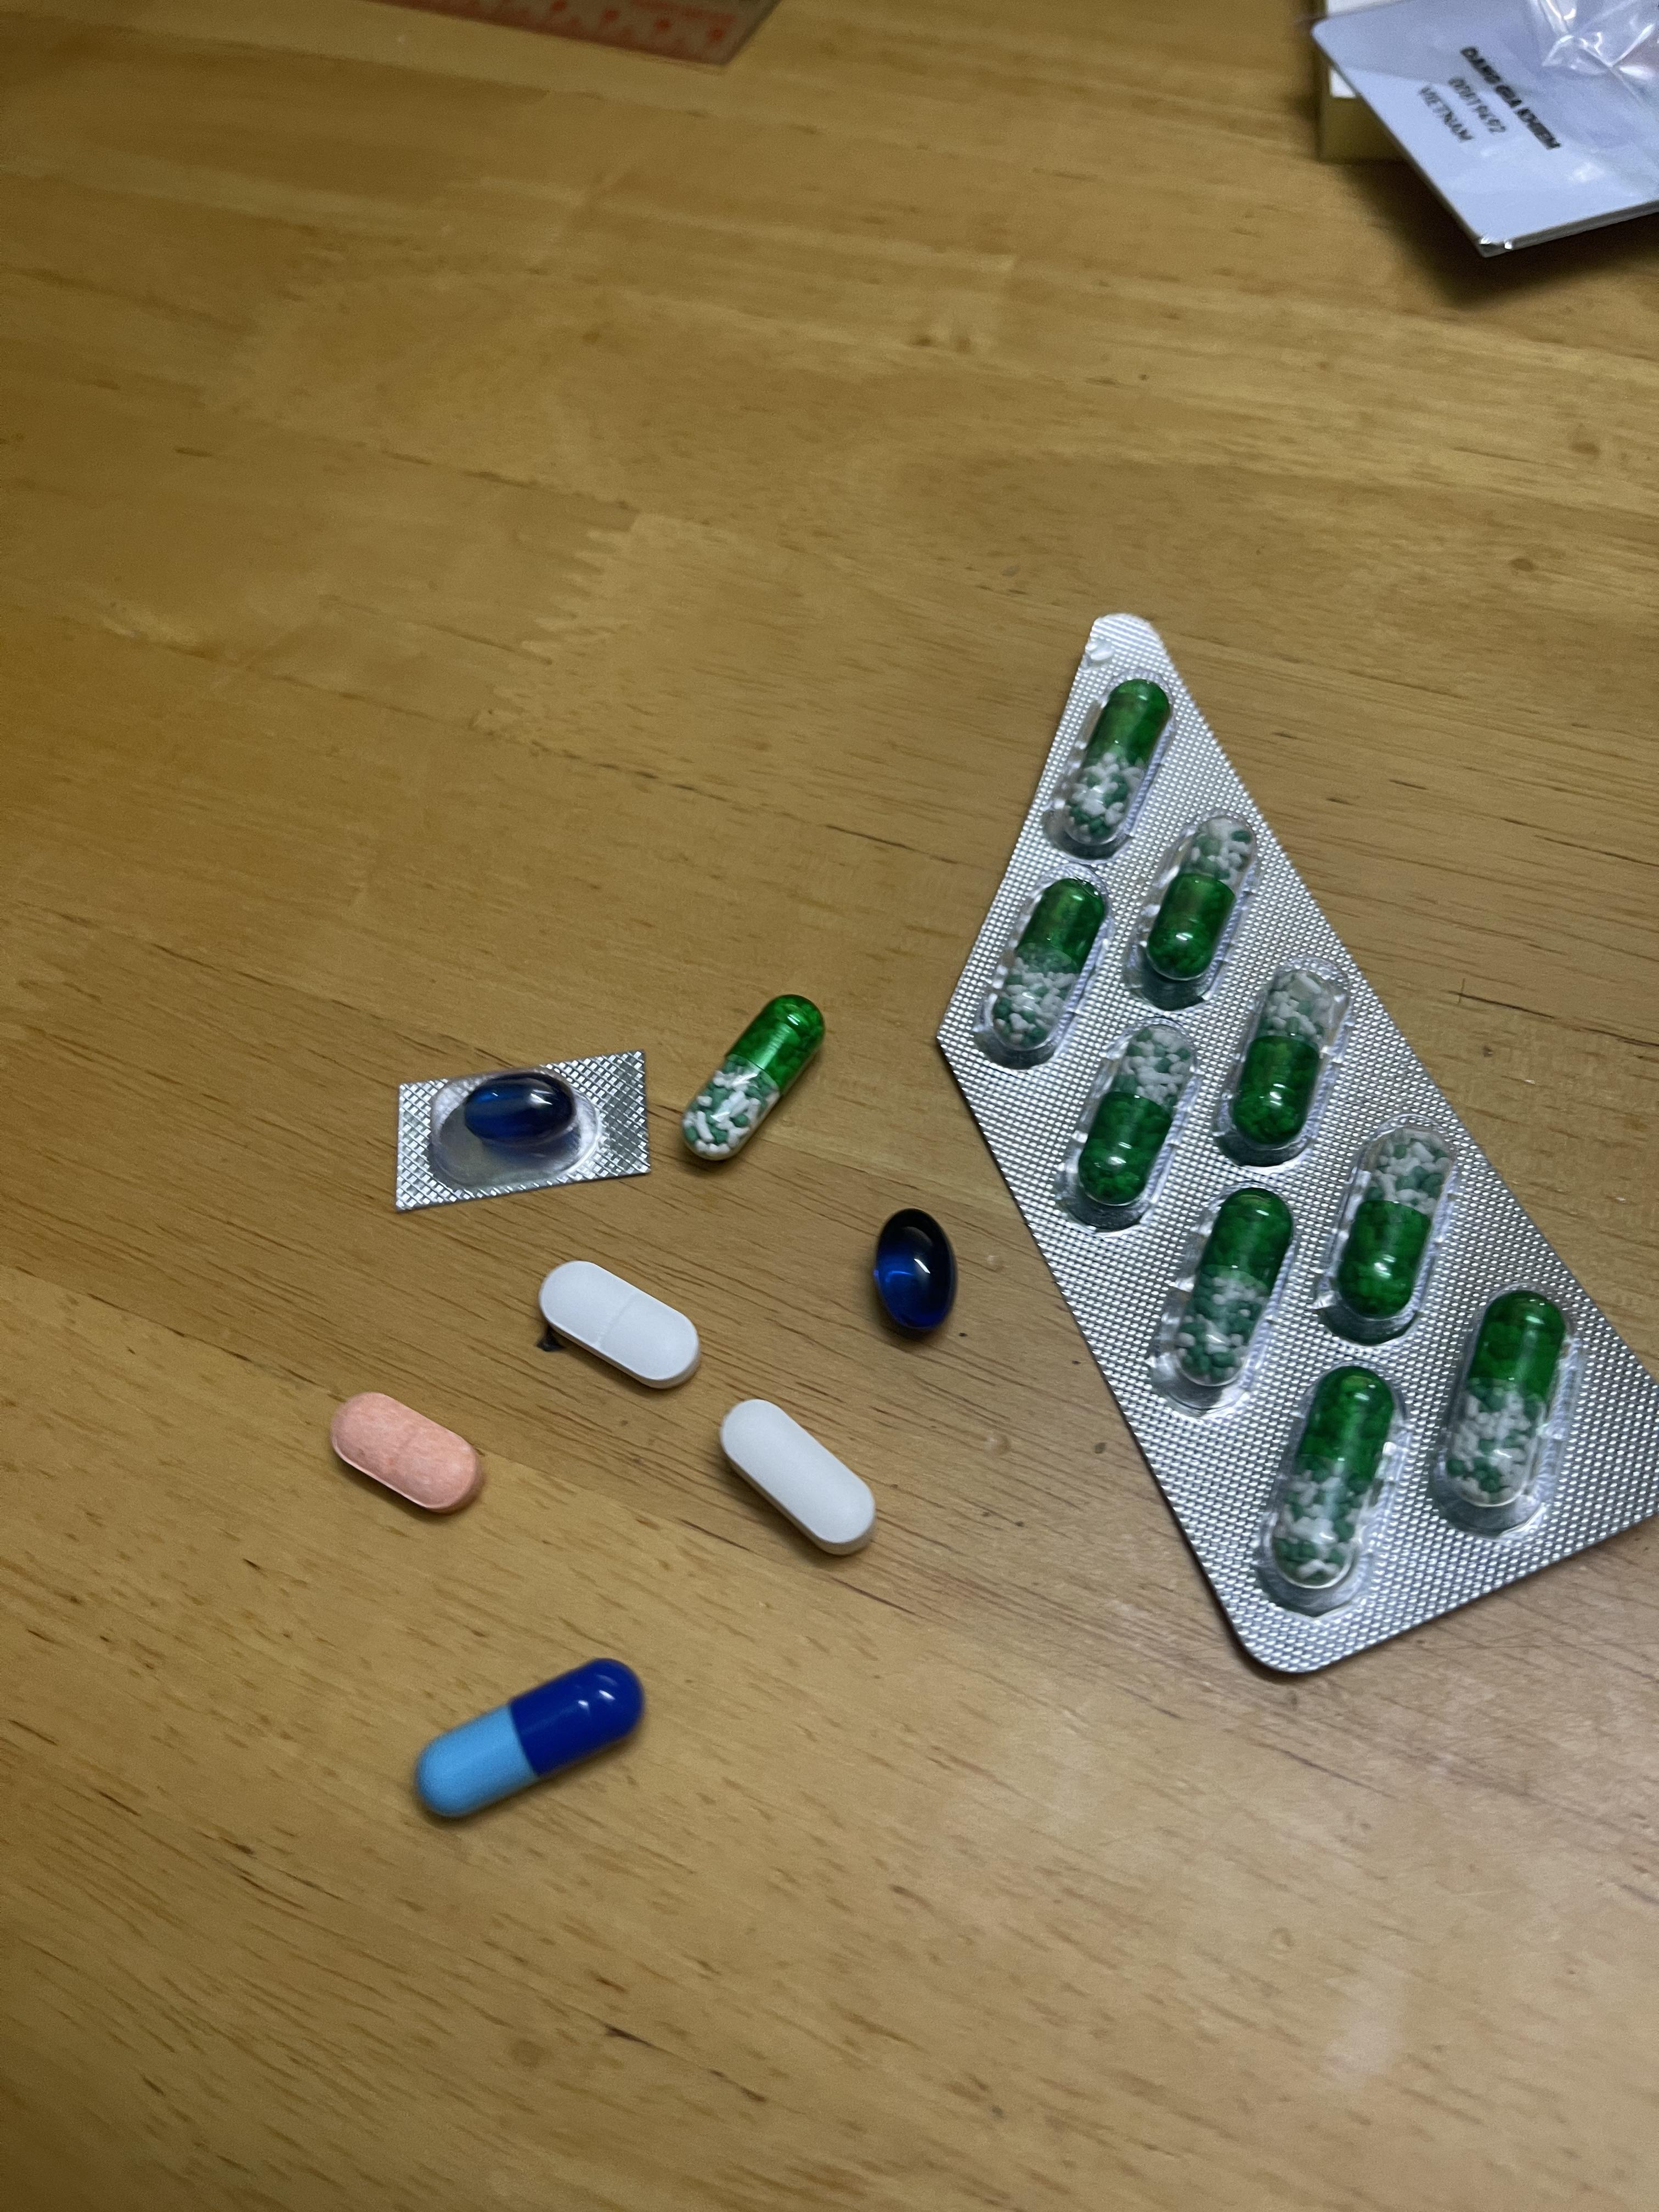Lincomyxin_500mg: (873, 1209, 957, 1334), (458, 1069, 584, 1153)
Loratadine_10mg: (331, 1392, 481, 1512)
Paracetamol_350mg: (542, 1261, 697, 1388)
Paracetamol_500mg: (721, 1400, 875, 1550)
Paracetamol_650mg: (1260, 1364, 1398, 1602), (1152, 1188, 1297, 1402), (1436, 1291, 1568, 1524), (1321, 1123, 1457, 1334), (1218, 961, 1349, 1158), (1066, 1028, 1195, 1217), (1129, 815, 1258, 996), (681, 998, 823, 1162), (981, 876, 1107, 1055), (1053, 676, 1173, 852)
pill: (420, 1660, 634, 1818)
